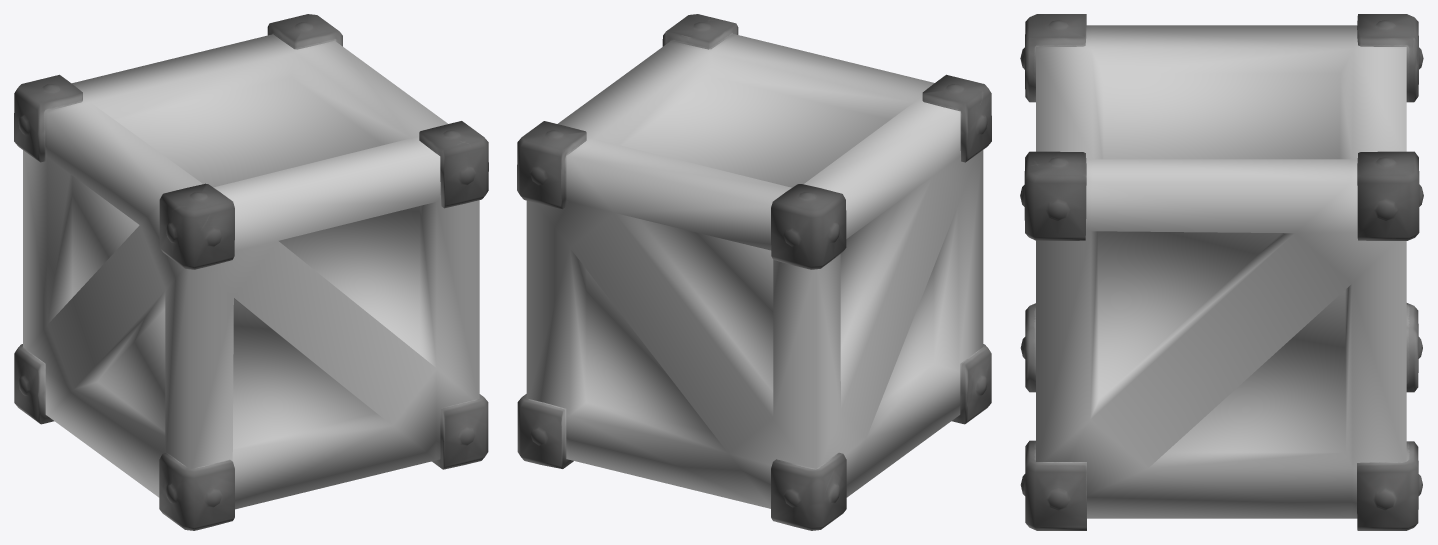
3 views of the same model, side by side, from view 1: azimuth 30°, elevation 25°; view 2: azimuth 150°, elevation 25°; view 3: azimuth 270°, elevation 25° (orthographic). The views are drawn at different scales.
Parts seen in each view (by area): view 1: Kutija_low, Metal_low; view 2: Kutija_low, Metal_low; view 3: Kutija_low, Metal_low.
Part boxes in pixels (x1=…): Kutija_low: x1=23, y1=34, x2=479, y2=509; Metal_low: x1=14, y1=14, x2=488, y2=530; Kutija_low: x1=526, y1=34, x2=983, y2=508; Metal_low: x1=517, y1=14, x2=991, y2=530; Kutija_low: x1=1036, y1=25, x2=1406, y2=518; Metal_low: x1=1020, y1=14, x2=1423, y2=530.
Size of the model in its own units: 2.15 by 2.14 by 2.16.
